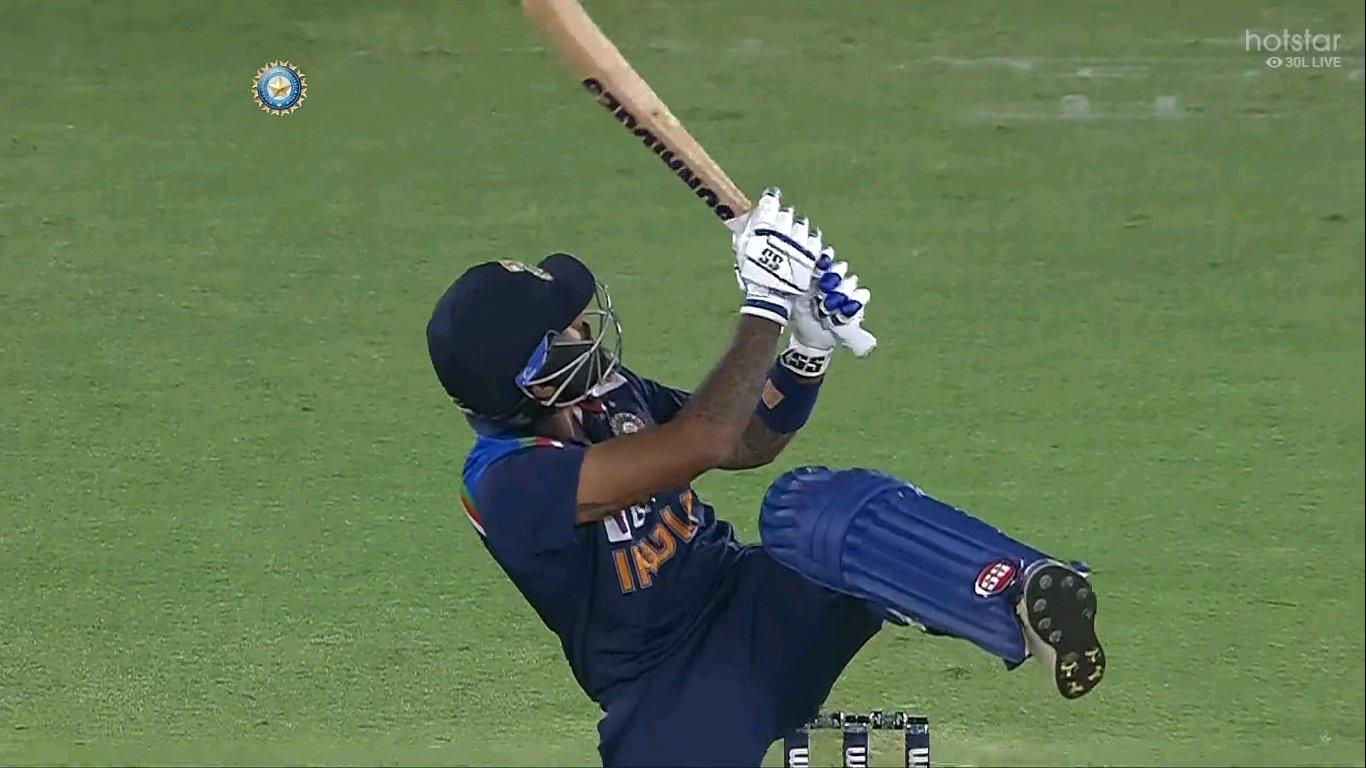batsman: (422, 0, 1110, 768)
